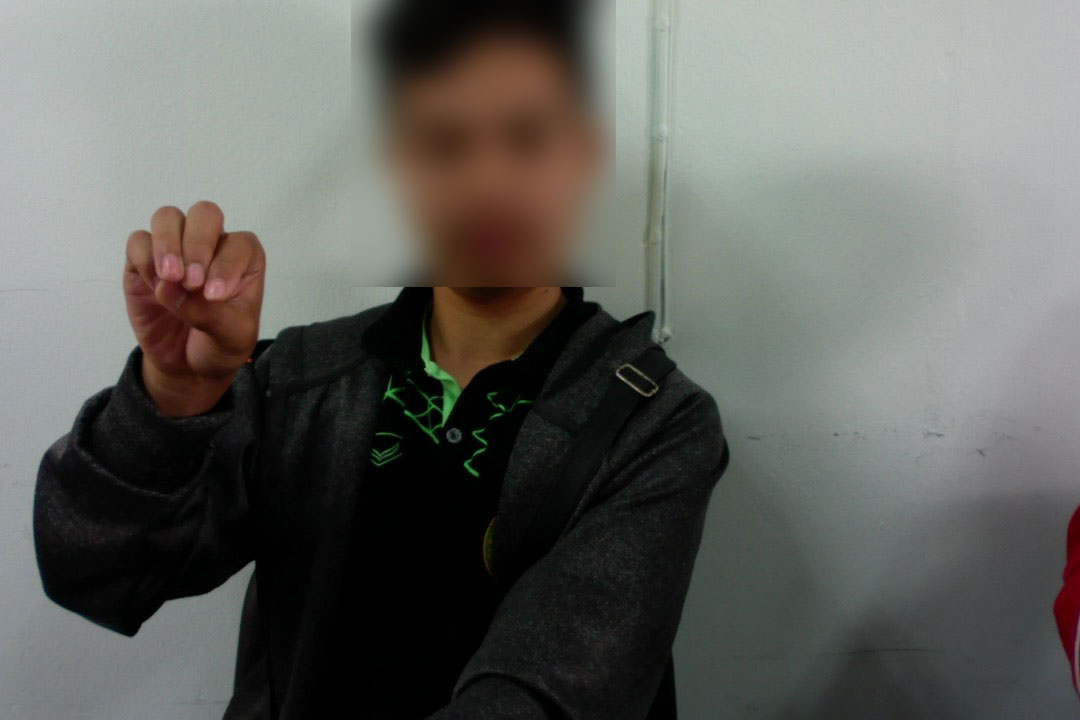mor: (117, 189, 271, 386)
